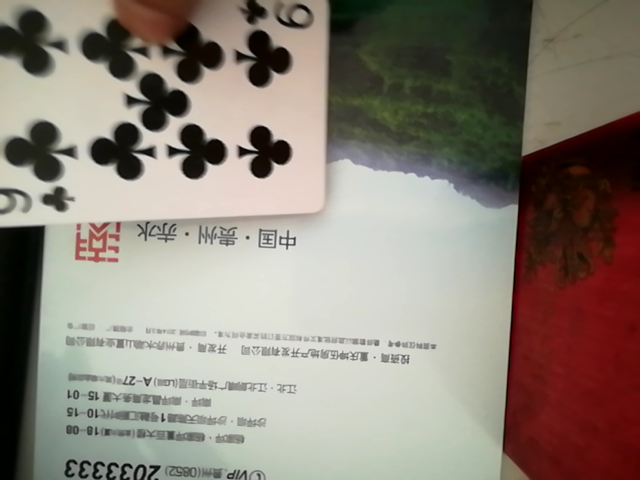mh 9: (0, 0, 332, 228)
